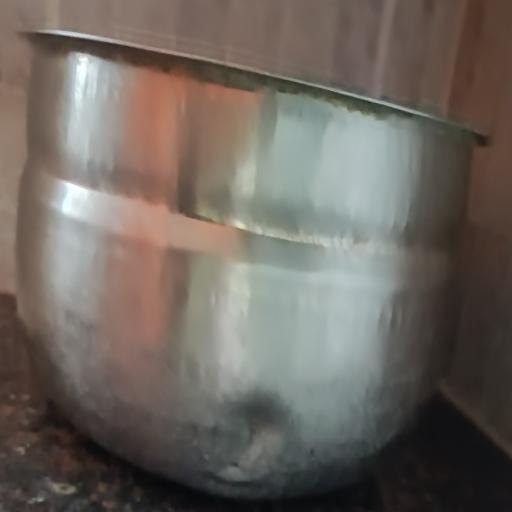vessel: (17, 33, 480, 499)
